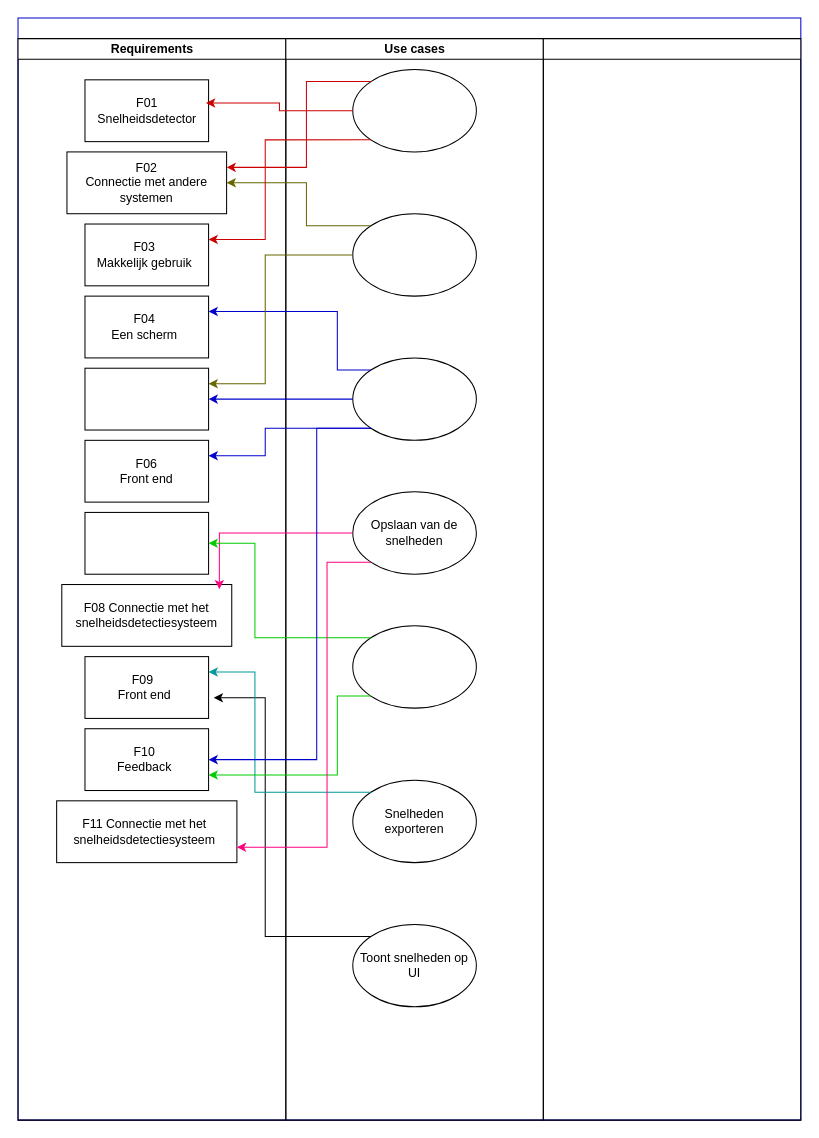
Some shapes in this 819 by 1138 pixel diagram are drawn without their labels. The shapes that lost their labels are listed below. From the top down, each one's centre as x and y in pixels, then its label:
point (414, 110): Snelheid meten
point (414, 254): Snelheid door versturen
point (146, 398): F05 Connectie met andere systemen
point (414, 398): Snelheid tonen
point (146, 542): F07 makkelijke opzet
point (671, 579): Classes
point (414, 666): Toont beste snelheden
